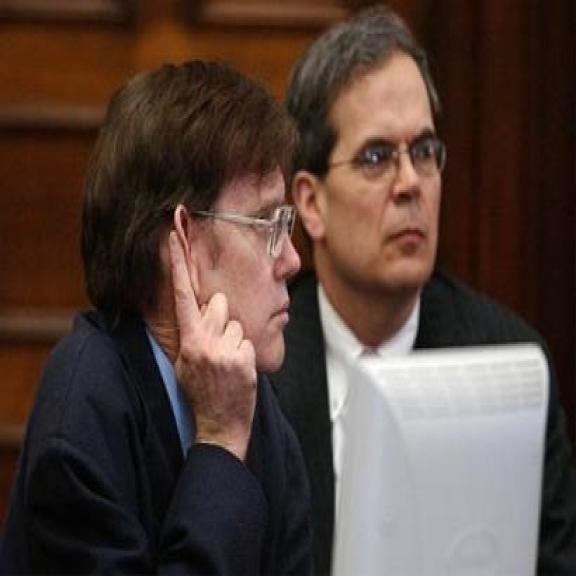face: (288, 63, 445, 298), (160, 145, 300, 380)
